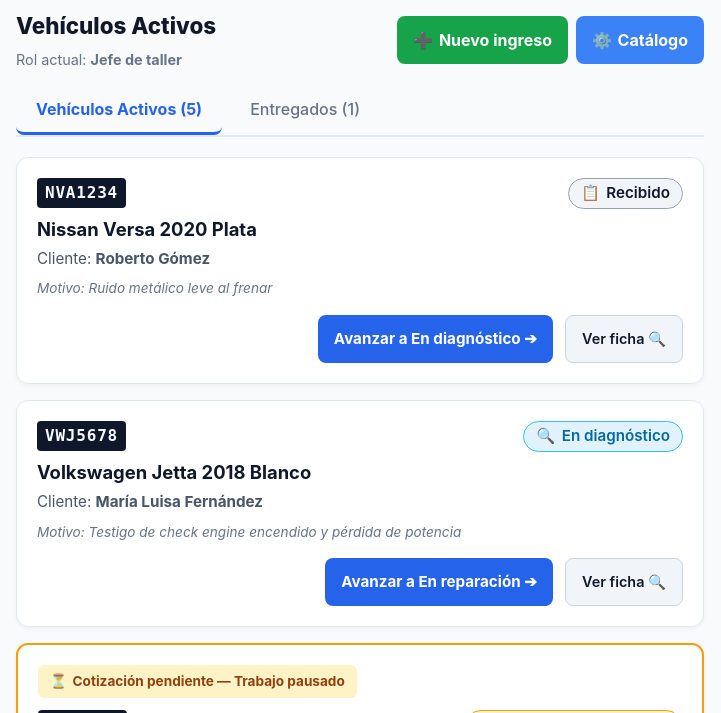
Test: UI Taller (Spec 001 - T8) › VehicleList › permite avanzar rápidamente de estado con el botón rápido en la tarjeta (RF-03, CA-02, RNF-01)
Click the button "Avanzar a En diagnóstico ➔".
click(435, 339)  # box top-left (318, 315), bottom-right (553, 363)
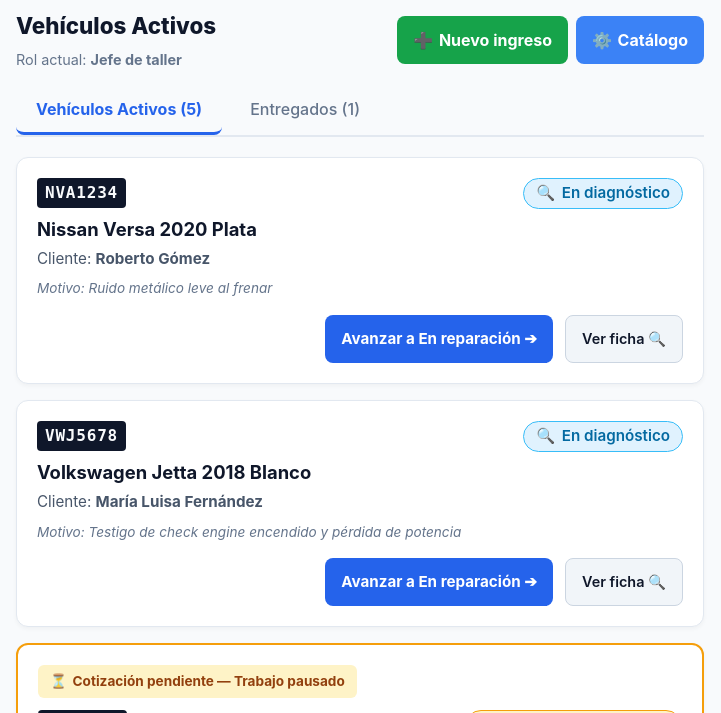
Check: the text "En diagnóstico" in the row of "NVA1234" is shown, box top-left (562, 183), bottom-right (670, 202)
